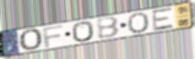B: (95, 15, 121, 40)
E: (152, 6, 175, 32)
F: (42, 24, 65, 48)
O: (17, 28, 44, 52), (127, 11, 151, 35), (71, 21, 96, 44)
